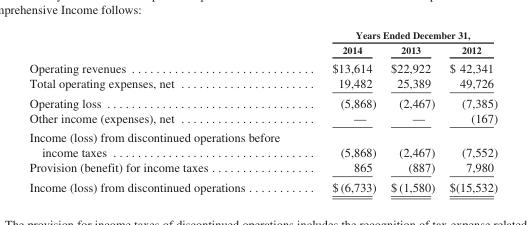table: (28, 28, 497, 193)
table column: (28, 28, 305, 193), (305, 28, 382, 193), (382, 28, 441, 193), (441, 28, 497, 193)
table column header: (28, 28, 497, 57)
table row: (28, 127, 497, 159), (28, 57, 497, 75), (28, 92, 497, 110), (28, 75, 497, 92), (28, 110, 497, 127), (28, 159, 497, 176), (28, 176, 497, 193), (28, 41, 497, 57), (28, 28, 497, 41)
table spanning cell: (305, 28, 497, 41)
